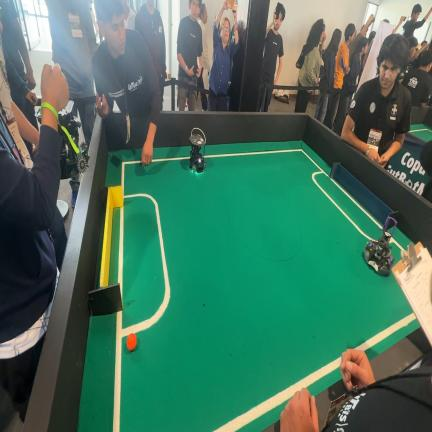cancha: (77, 142, 419, 432), (391, 229, 410, 258), (410, 124, 432, 142)
limites: (208, 147, 382, 240), (113, 160, 170, 432), (214, 357, 339, 432), (357, 313, 417, 350), (118, 208, 124, 282), (154, 156, 187, 163), (390, 235, 404, 251)
pelota: (127, 334, 136, 351)
porteria: (87, 185, 124, 316), (330, 163, 398, 229)
robot: (57, 101, 89, 179), (363, 216, 397, 276), (189, 128, 206, 173), (35, 107, 41, 124)
